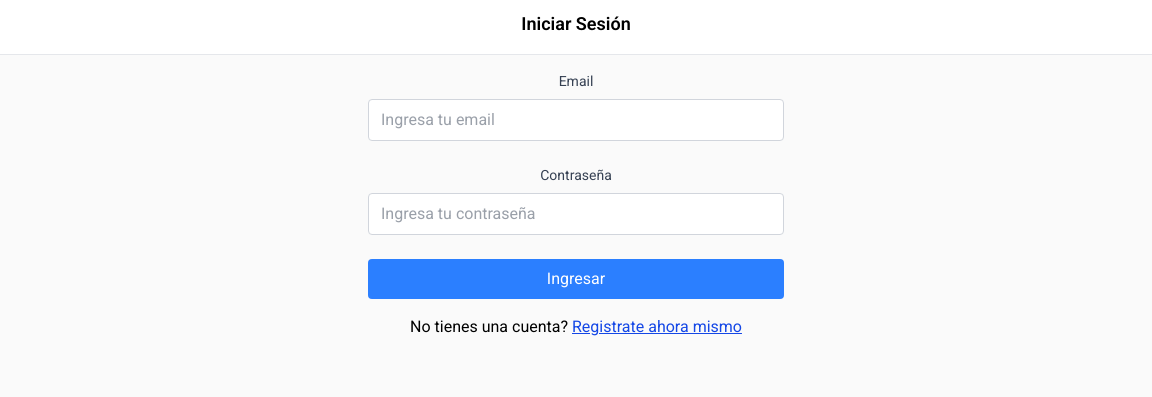
Test: Login Component › shows error on failed login
Type "test@test.com" into the field labelled "Email". click: (576, 120)
box: [368,99,784,141]
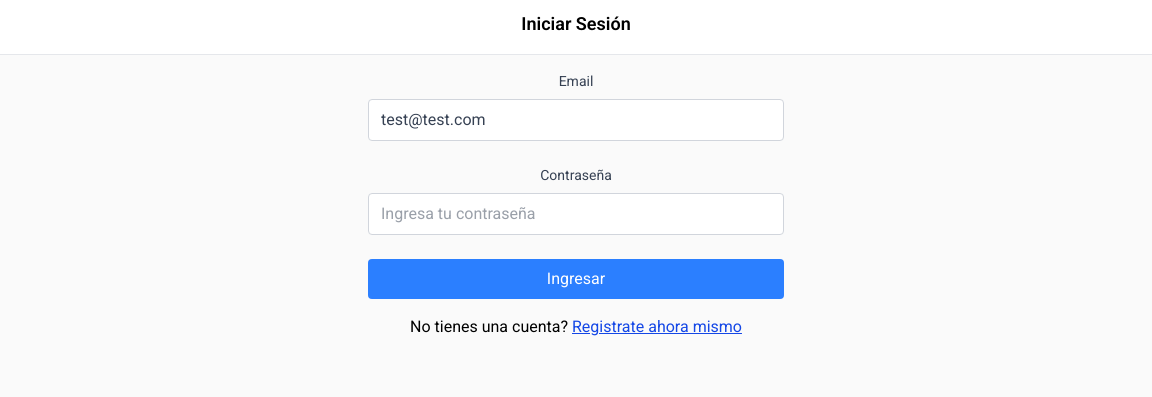
Type "wrongpass" into the password field labelled "Contraseña". click: (576, 214)
box: [368,193,784,235]
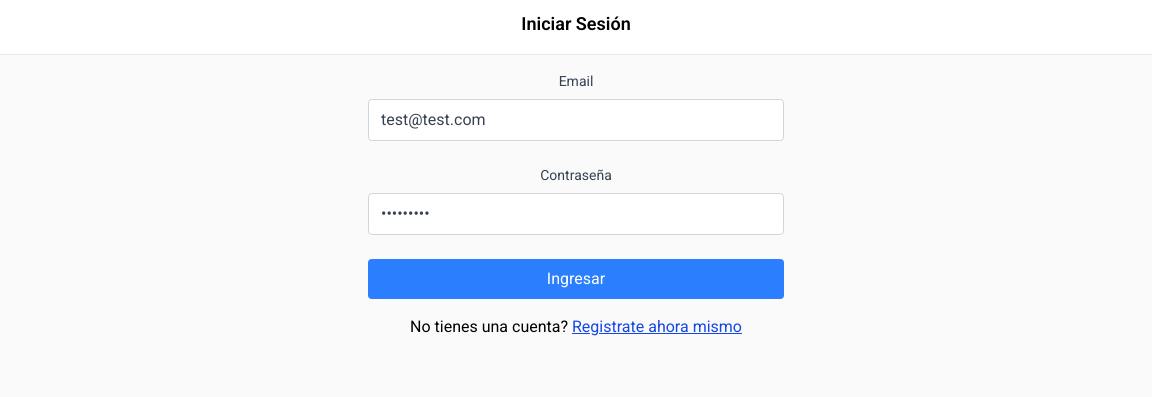
Click the button "Ingresar". click: (576, 279)
box: [368,259,784,299]
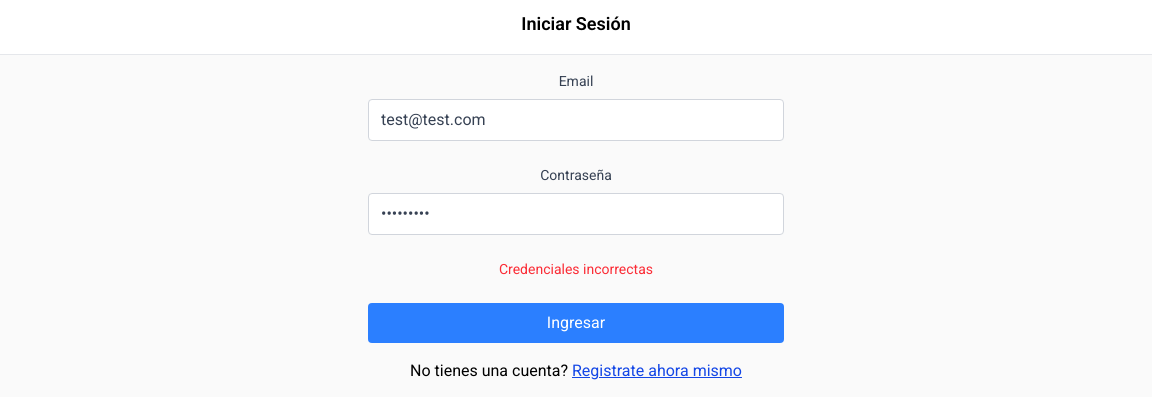
Expected: the text "Credenciales incorrectas" is shown, [499,261,653,277]
